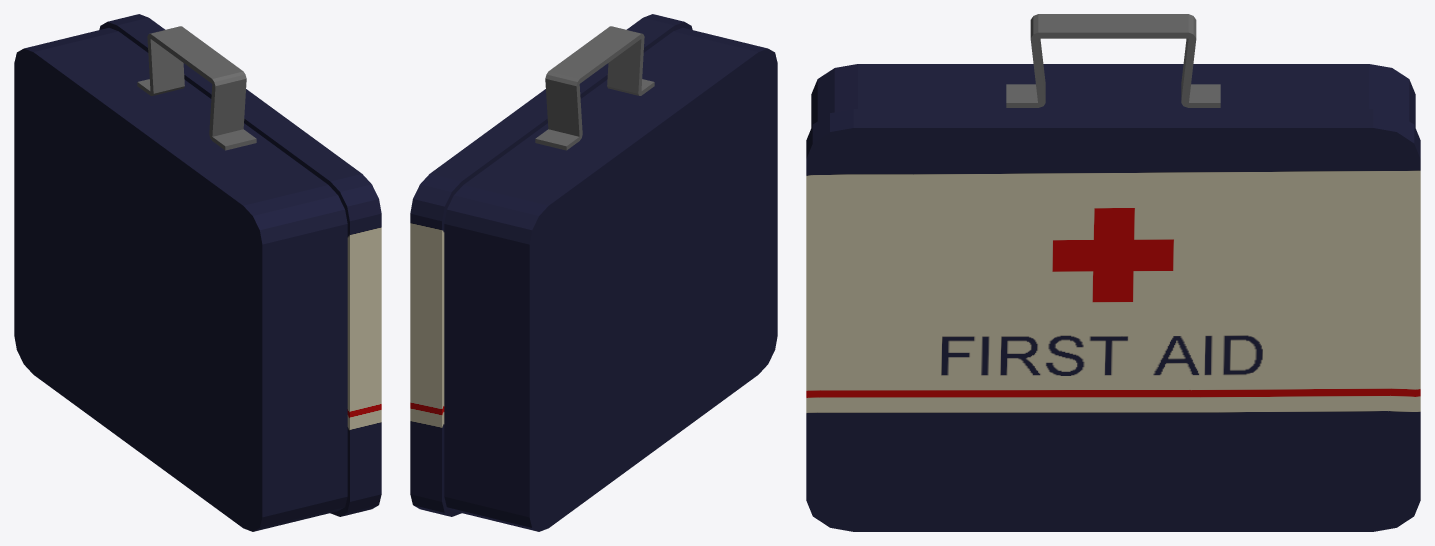
Rendered from First aid kit.glb.
The picture shows the model from 3 angles, left to right: view 1: azimuth 30°, elevation 25°; view 2: azimuth 150°, elevation 25°; view 3: azimuth 270°, elevation 25°; orthographic projection. The views are drawn at different scales.
Parts seen in each view (by area): view 1: First aid kit; view 2: First aid kit; view 3: First aid kit.
Part boxes in pixels (<box>): First aid kit: <box>14,14,381,531</box>; First aid kit: <box>410,14,777,531</box>; First aid kit: <box>806,14,1420,531</box>.
Size of the model in its own units: 0.7606 by 2.41 by 2.83.
1 material, 1 textured.
